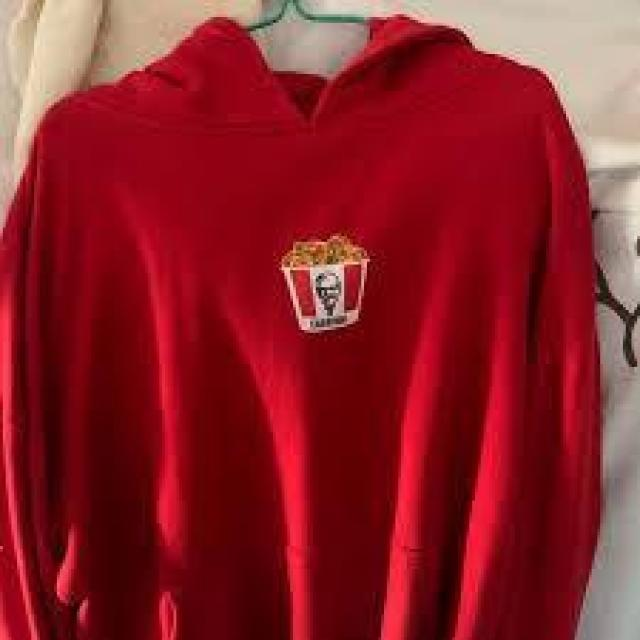sweater: (2, 27, 604, 636)
